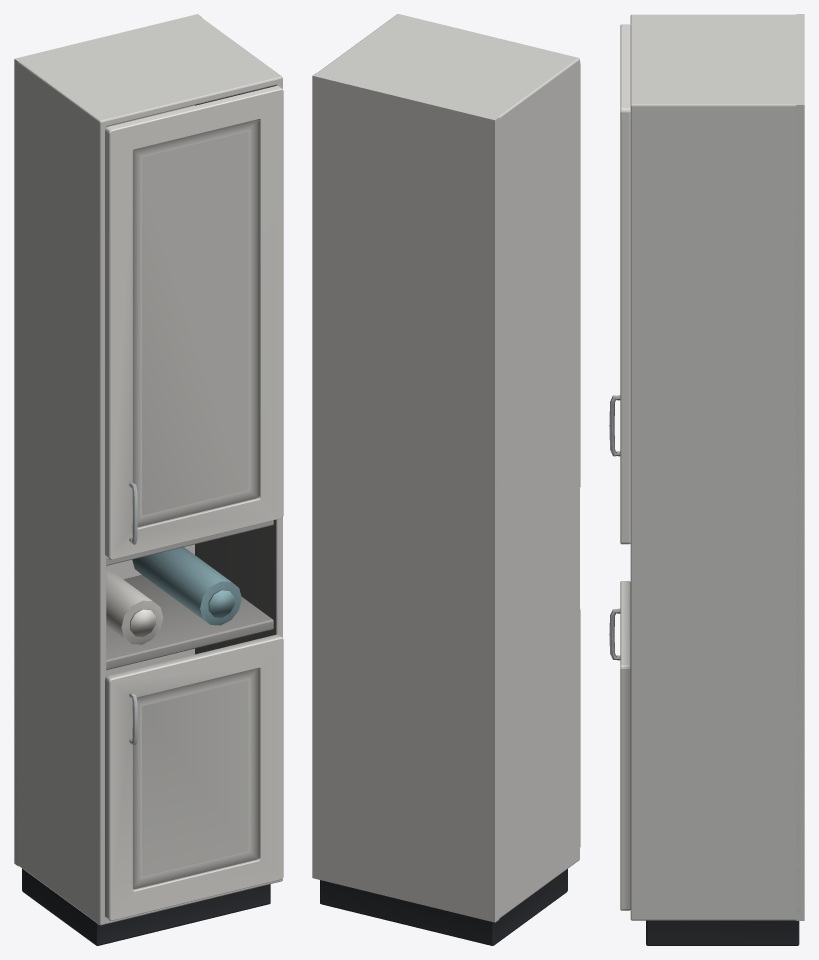
File: bathCabinetTall.glb
3 views of the same model, side by side, from view 1: azimuth 30°, elevation 25°; view 2: azimuth 150°, elevation 25°; view 3: azimuth 270°, elevation 25° (orthographic).
Parts seen in each view (by area): view 1: body, door; view 2: body; view 3: body, door.
Boxes of the visible parts, x1,y1,x2,y2 form: body: (14,14,283,945); door: (105,86,283,559); body: (312,14,580,945); body: (609,14,804,945); door: (609,24,630,544).
Bounding box in the file's own units: 0.42 × 1.82 × 0.3811.
